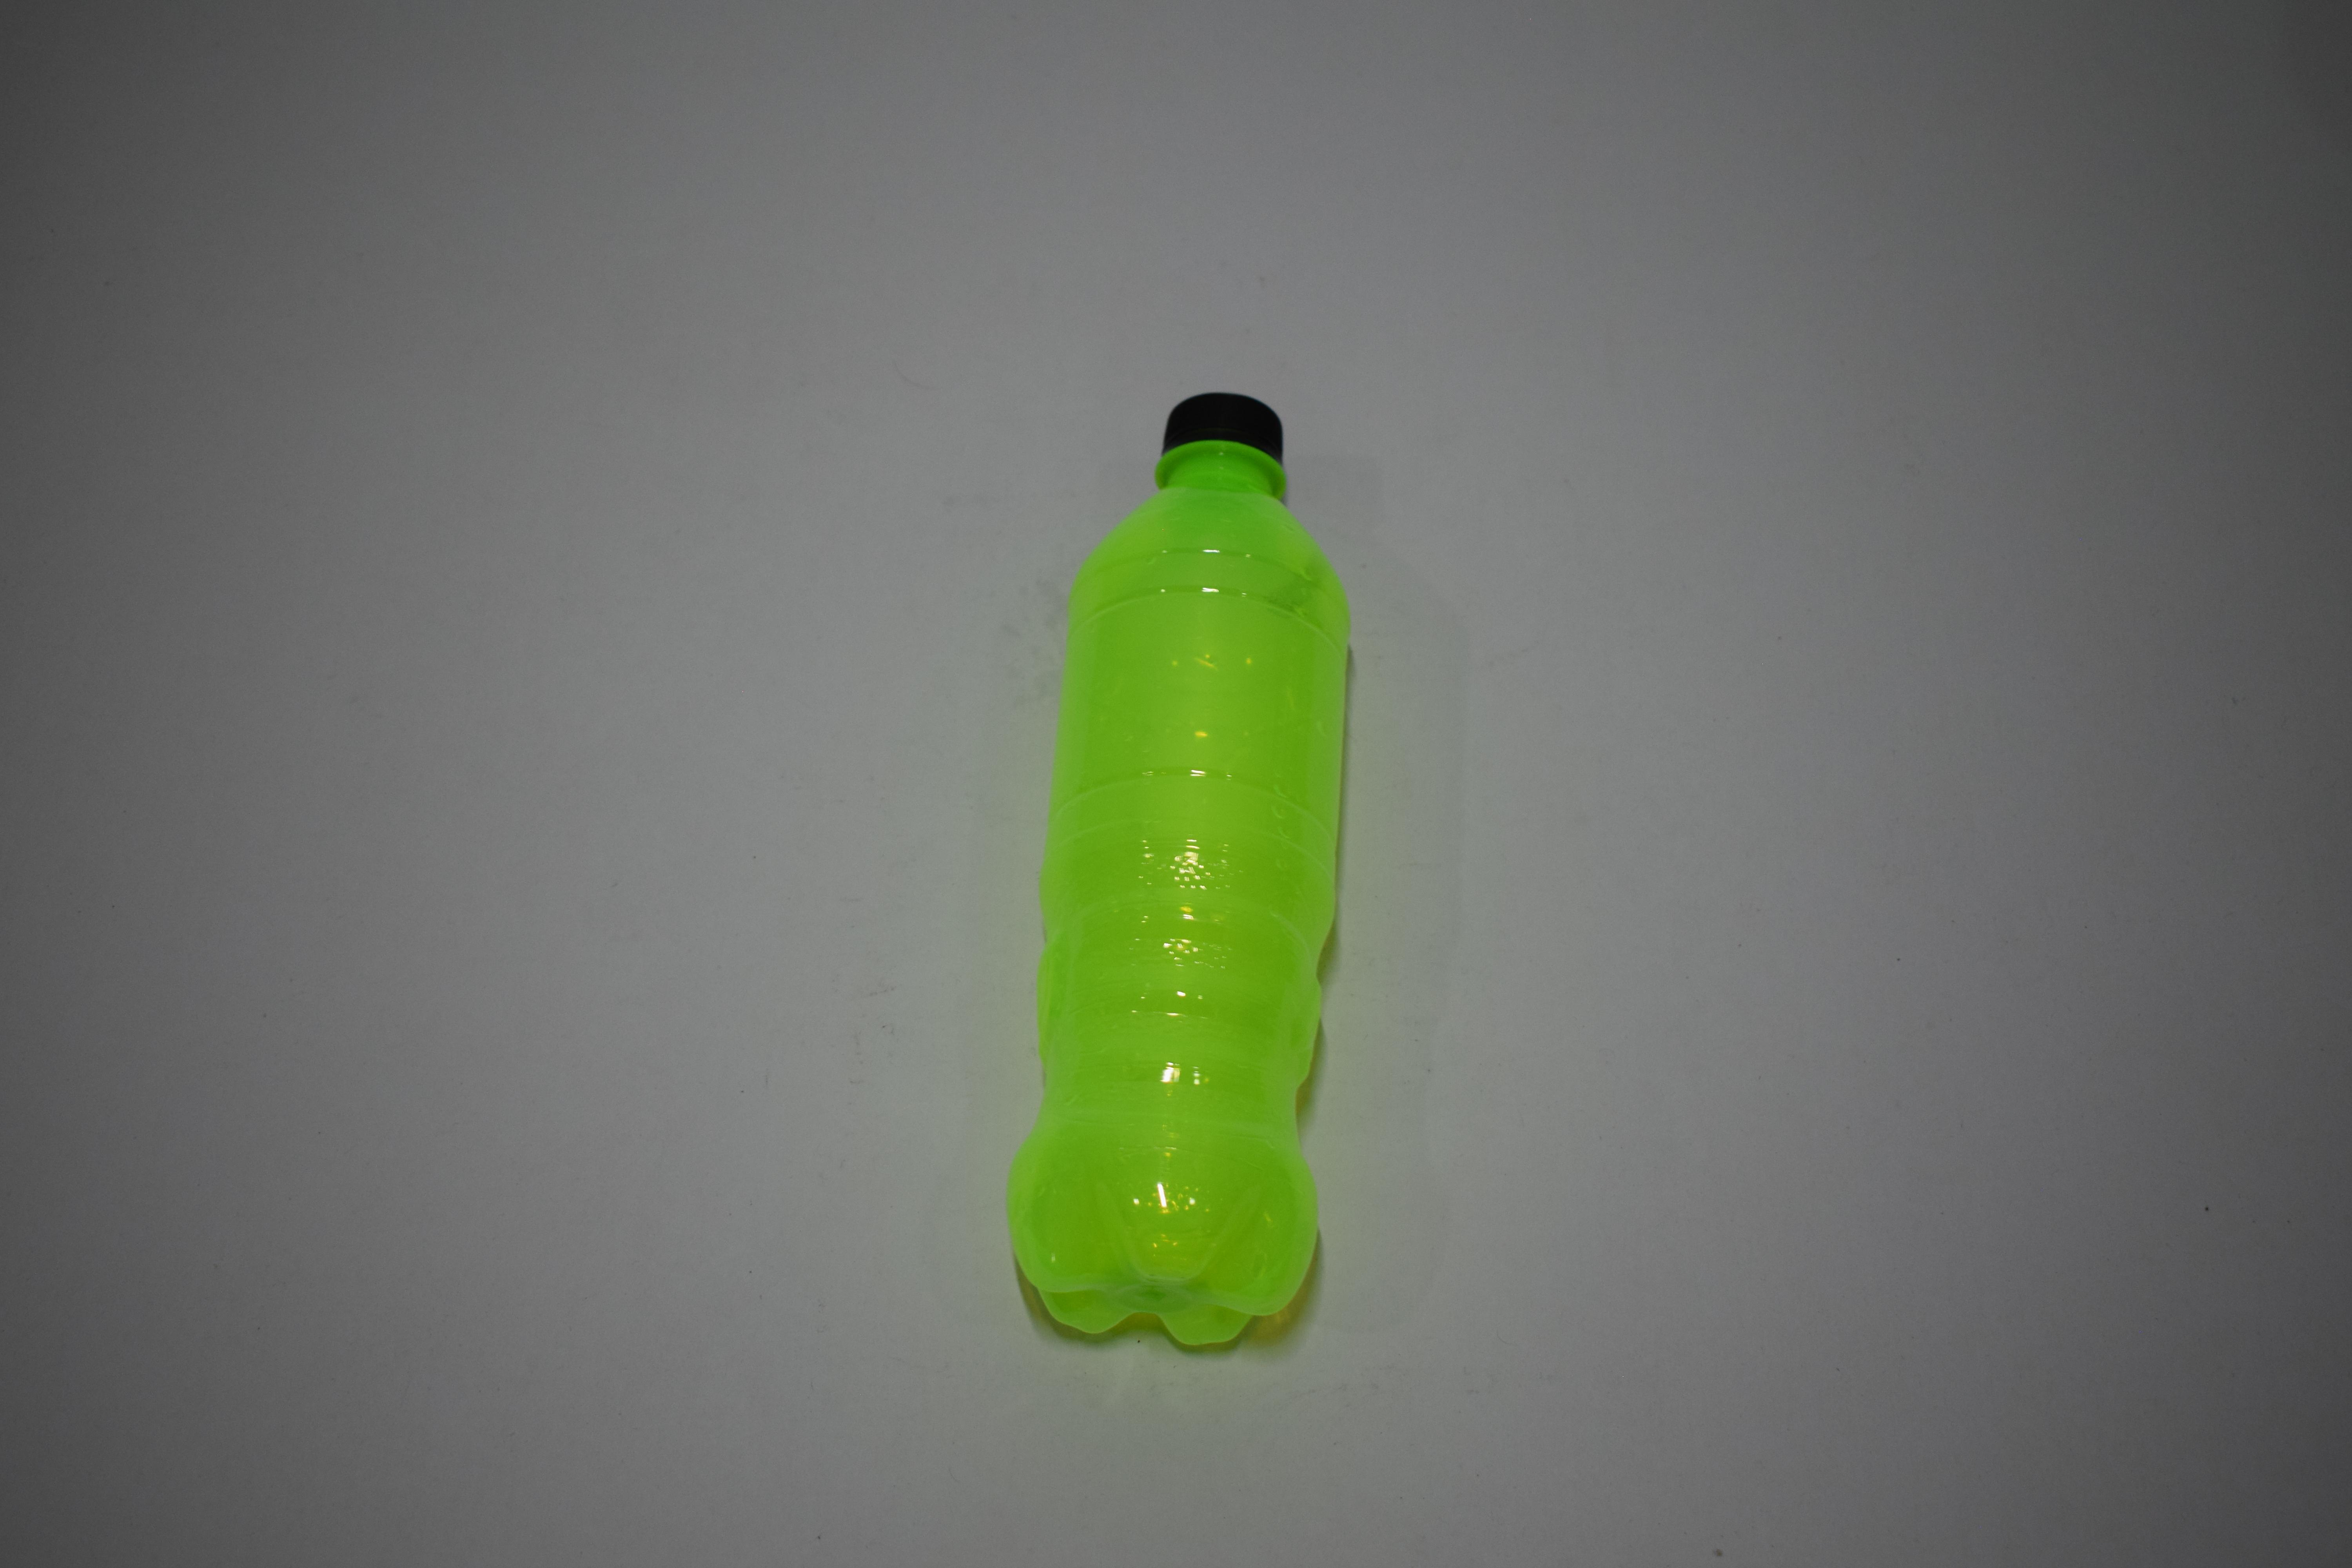bottle: (0, 0, 124, 497)
